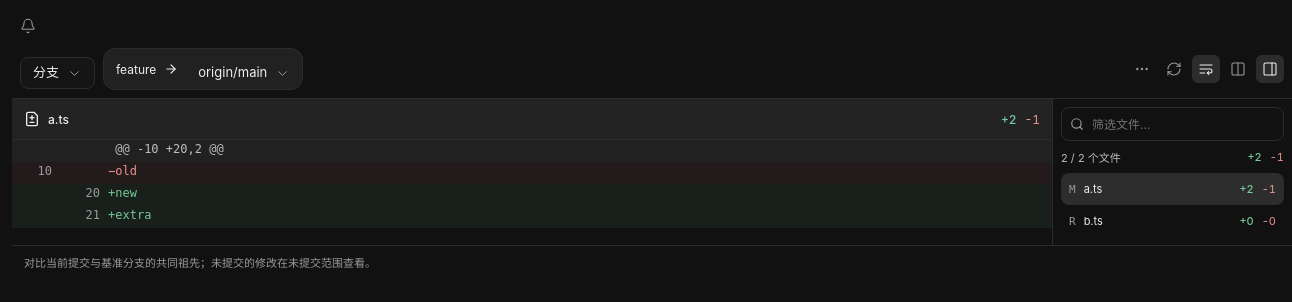
does not invent a last turn when the conversation has no recorded snapshot
Expected: the element named "统一文件差异" is shown, x1=12 y1=140 x2=1052 y2=228
What coordinates should you click on to do the following:
click the dropdown named "变更范围"
I would click on:
 (58, 73)
Its box is x1=20 y1=57 x2=95 y2=89.
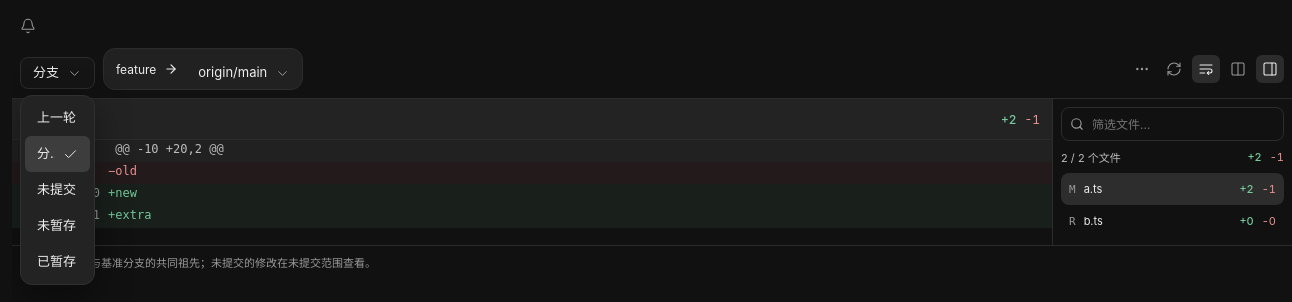
What coordinates should you click on to do the following:
click the option "上一轮"
I would click on:
 (58, 118)
Its box is x1=25 y1=100 x2=90 y2=136.
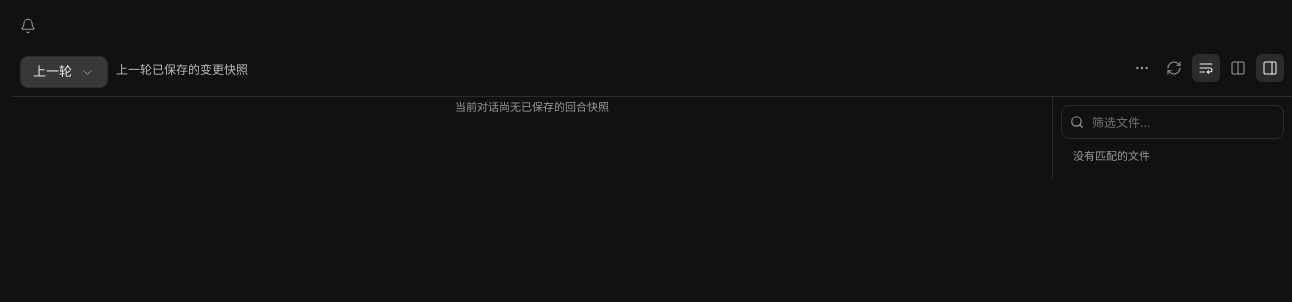
Expected: the dropdown named "变更范围" reads "上一轮", x1=20 y1=56 x2=108 y2=88
Expected: the text "当前对话尚无已保存的回合快照" is shown, x1=455 y1=100 x2=609 y2=114
